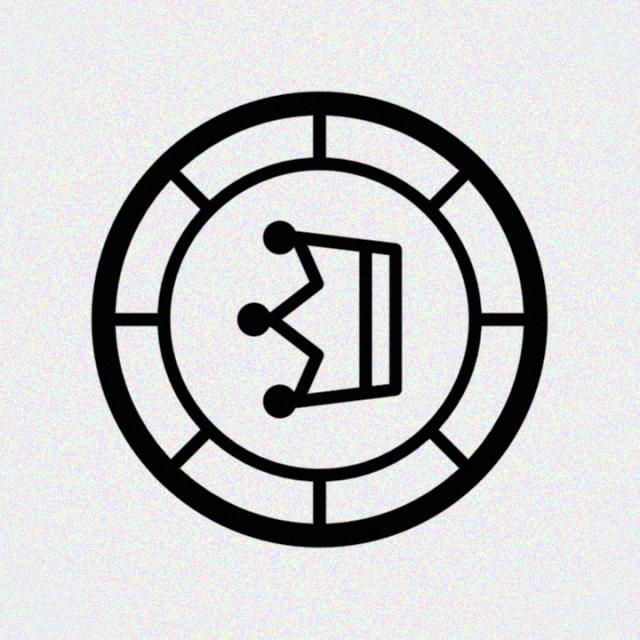coin: (85, 88, 558, 563)
